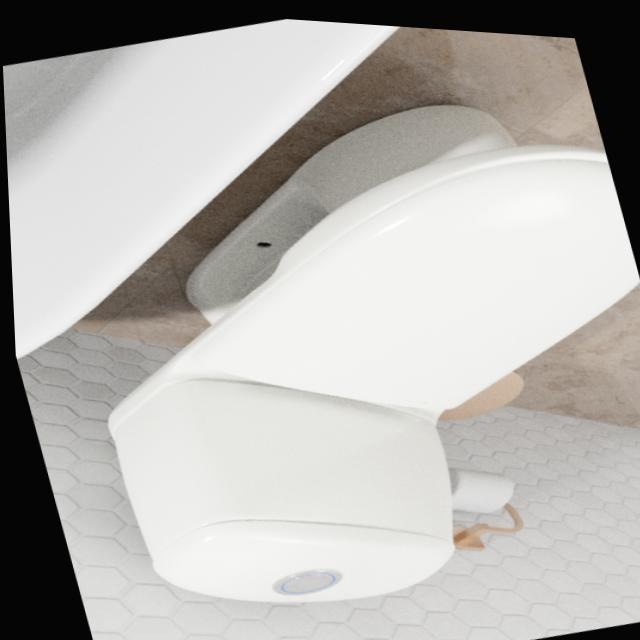toilet: (31, 42, 640, 640)
